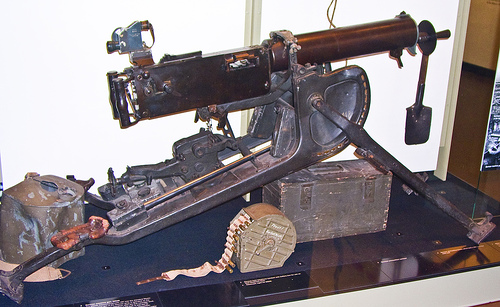rifle: (15, 22, 459, 226)
